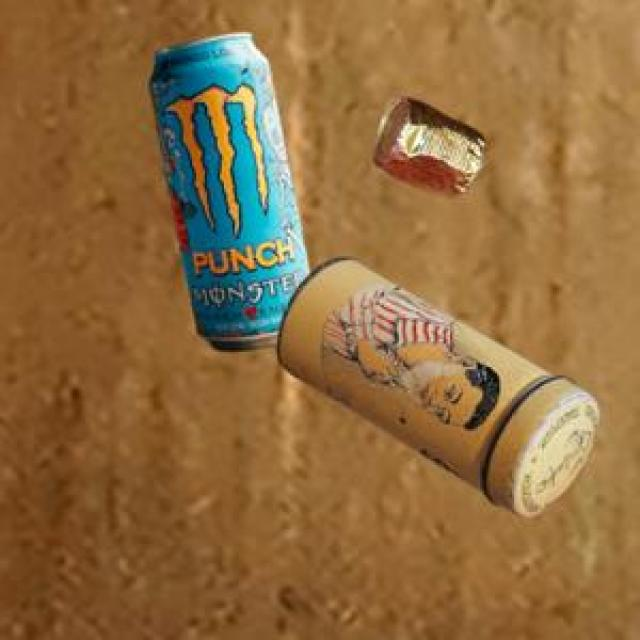logam: (274, 255, 596, 513), (146, 31, 306, 347), (372, 95, 479, 189)
